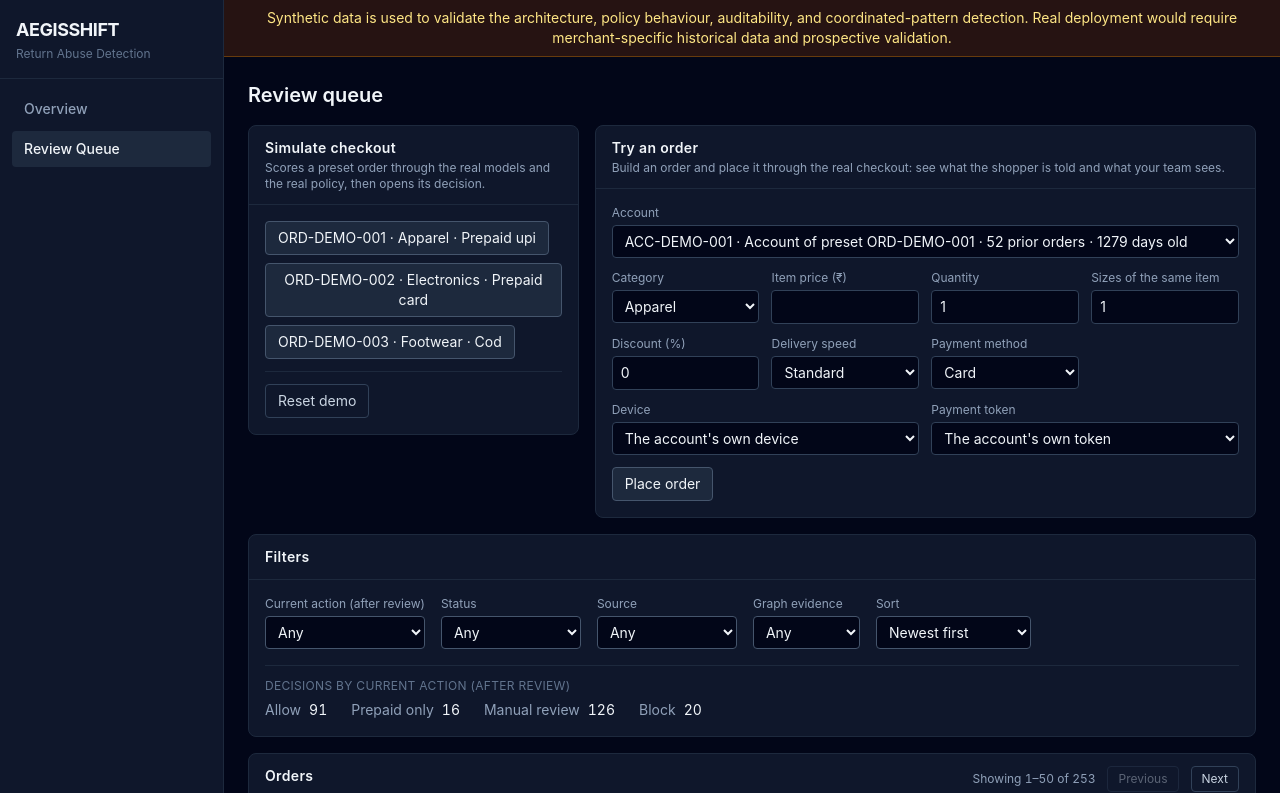
Scenario: placing an order › reads "Placing order…" and disables the button while the request runs
This screenshot has width=1280, height=793.
Check: the form with test id "try-form" is shown, box [612, 205, 1239, 501]
Select "ACC-DEMO-001 · Account of preset ORD-DEMO-001 · 52 prior orders · 1279 days old" in the dropdown labelled "Account" at (925, 242), box [612, 225, 1239, 258]
Type "1499" into the number field labelled "Item price (₹)" at (845, 307), box [772, 290, 919, 324]
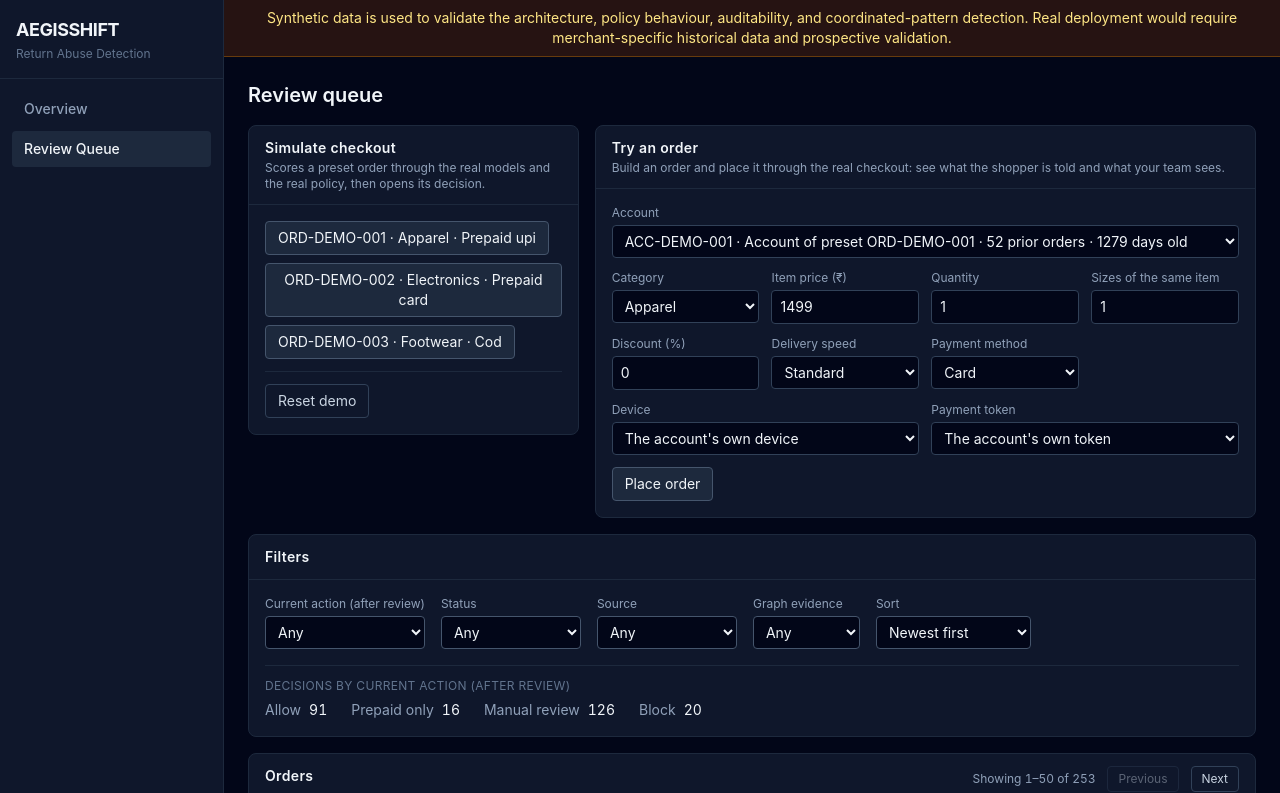
Click the button with test id "try-submit" at (663, 484), box [612, 467, 713, 501]
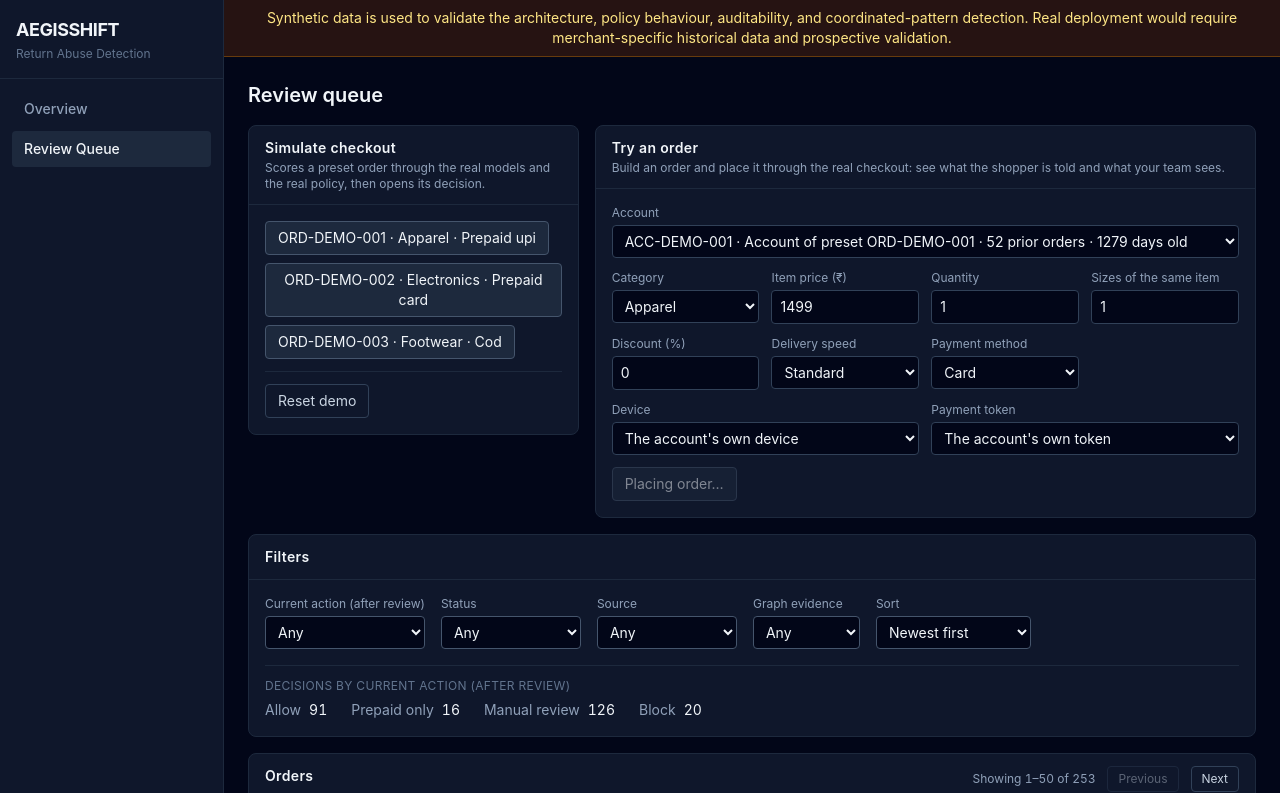
Check: the button "Placing order…" is disabled
Click the button "Placing order…" at (674, 484), box [612, 467, 737, 501]
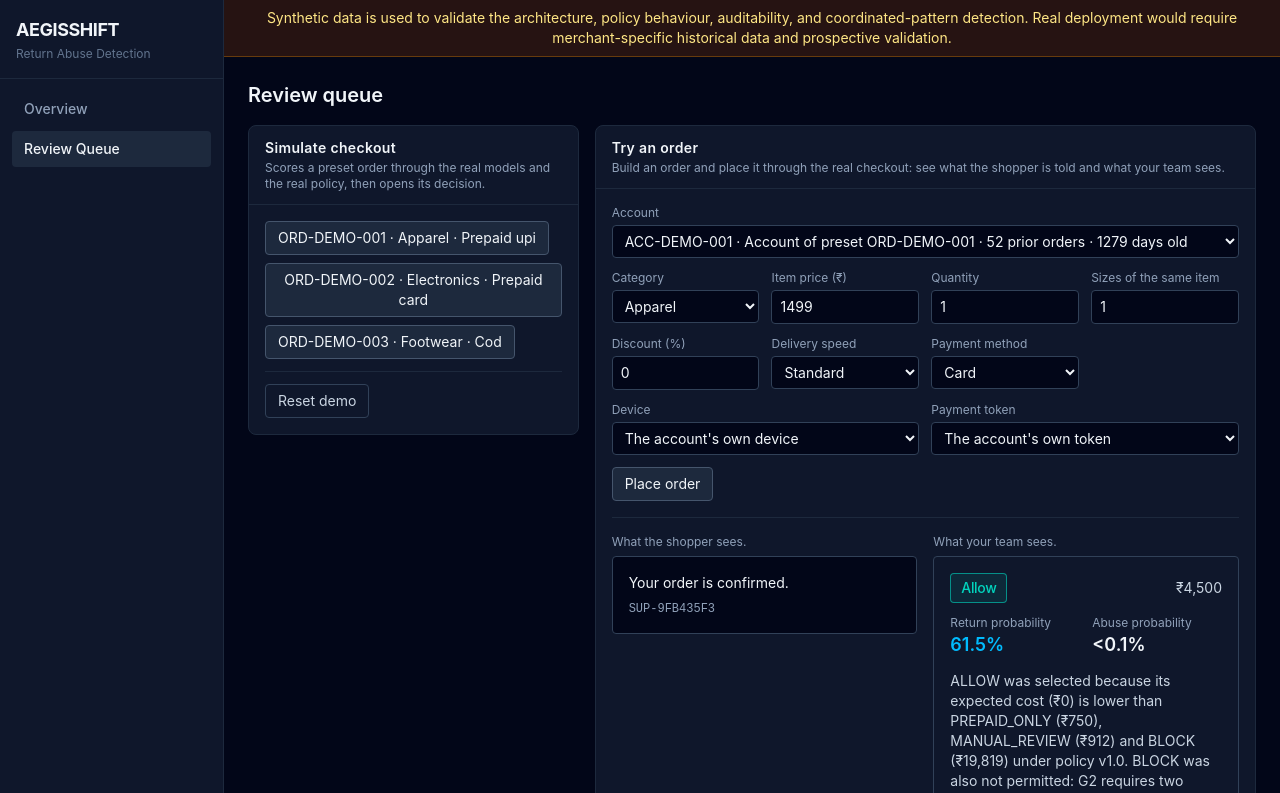
Check: the button with test id "try-submit" is enabled, box [612, 467, 713, 501]
